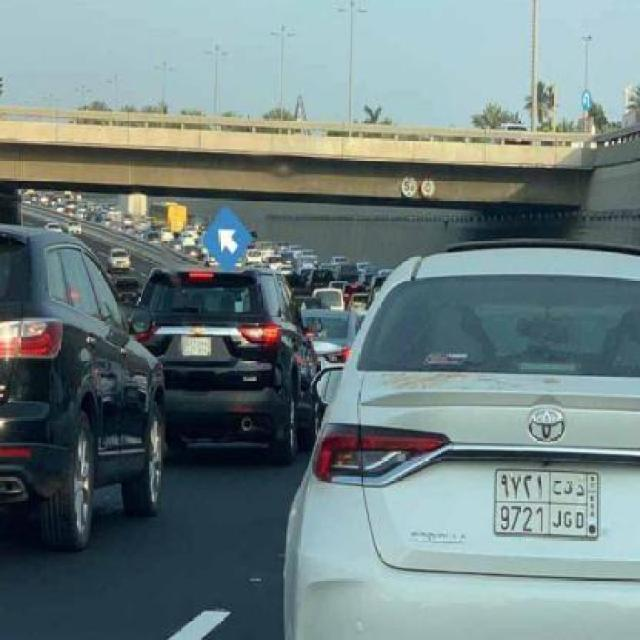license_plate: (492, 465, 600, 541)
